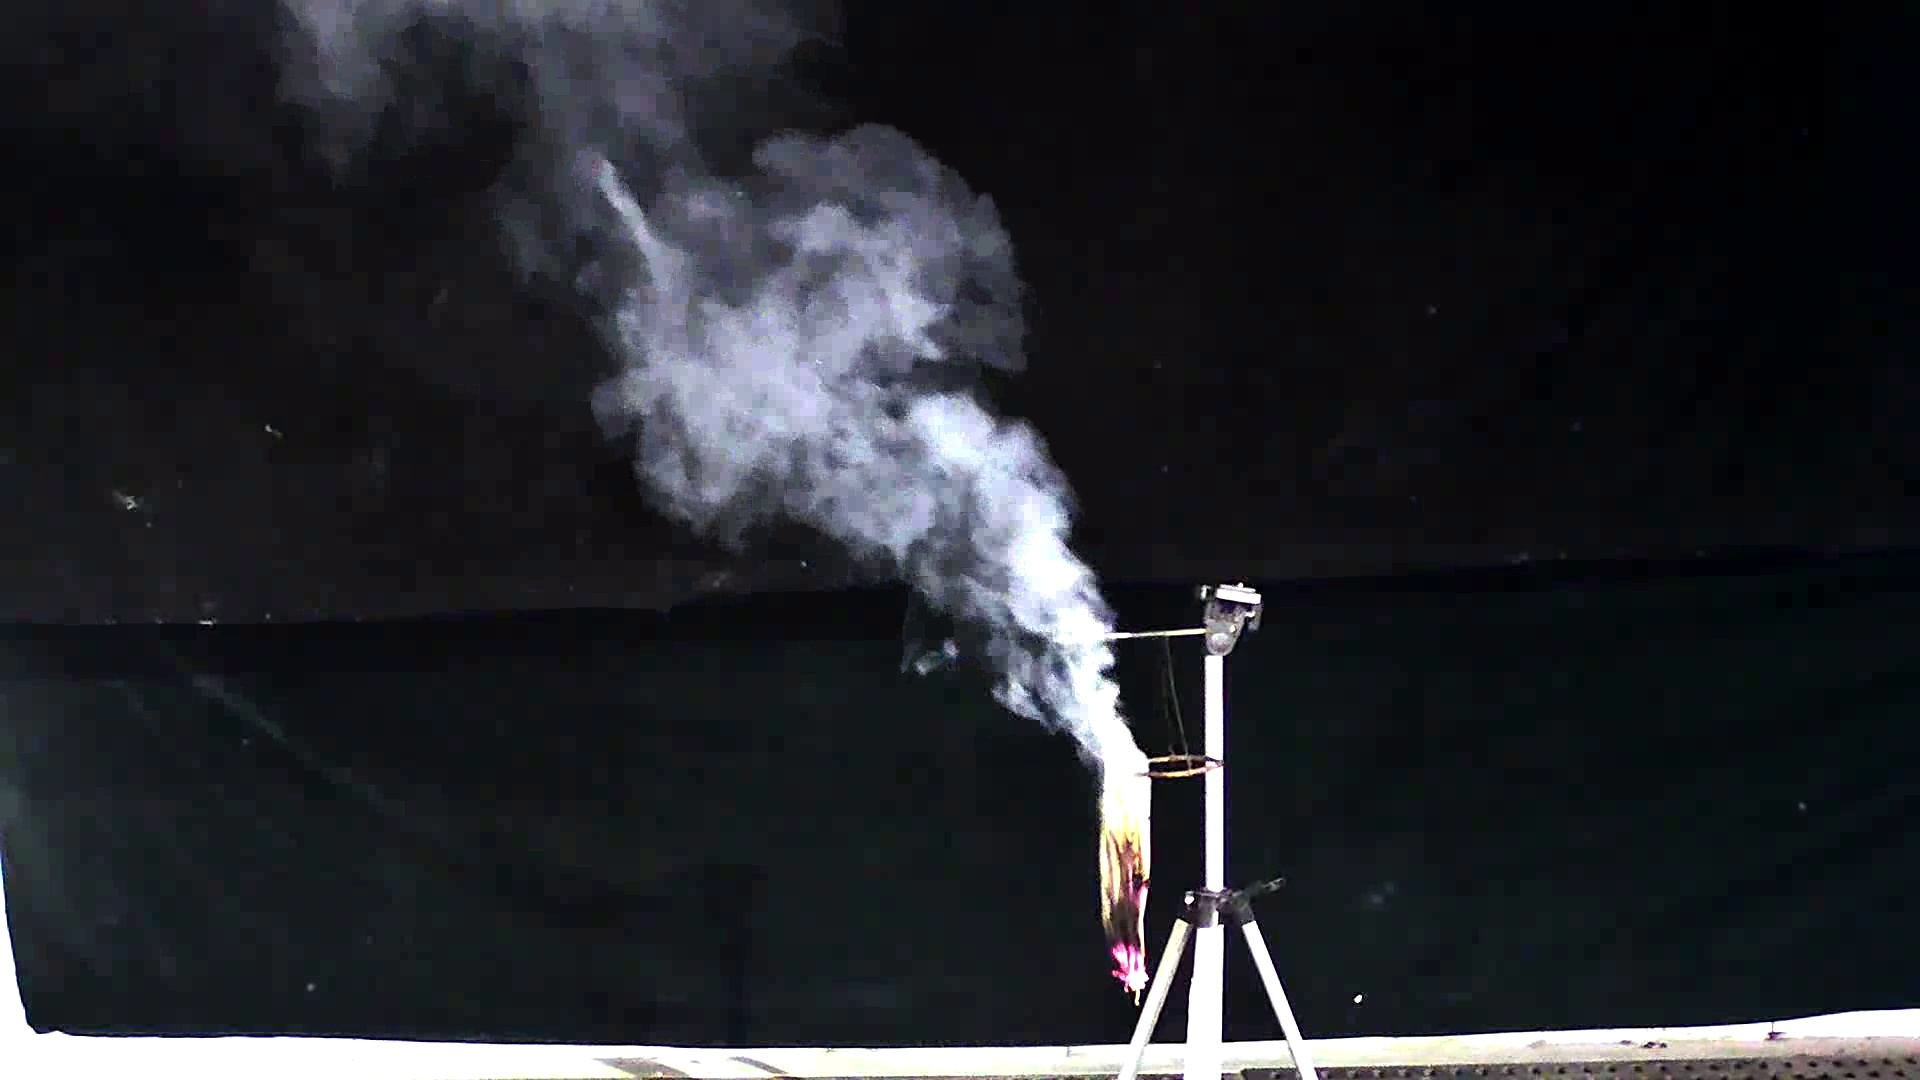smoke: (563, 127, 1163, 822)
